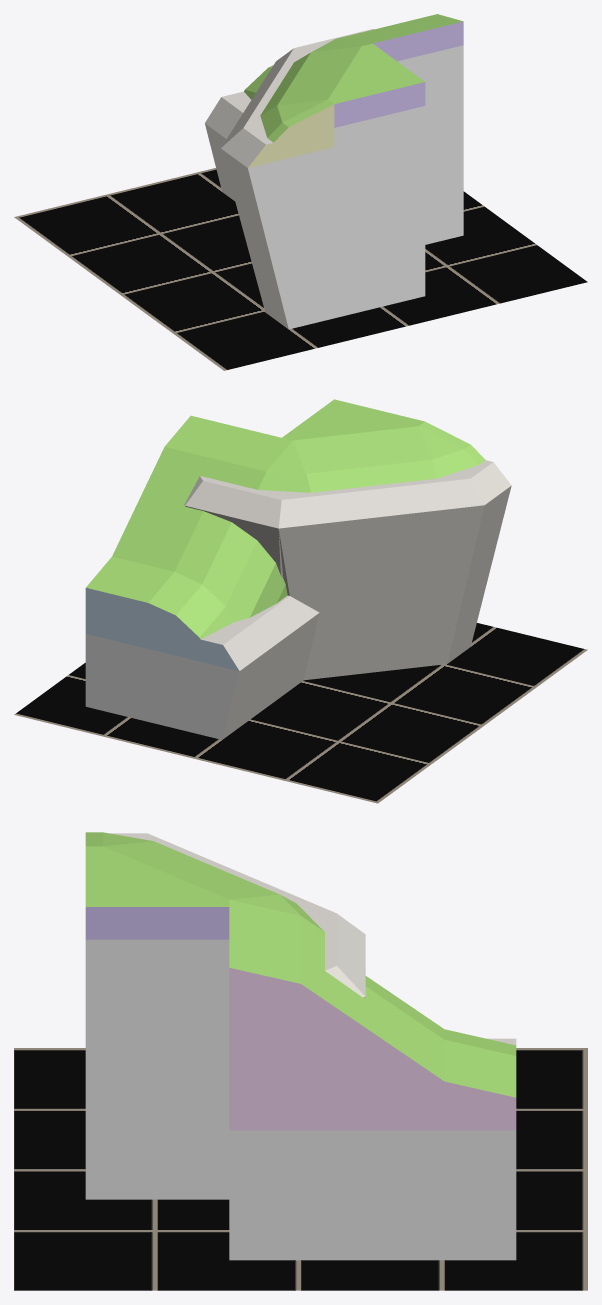
File: Waterfall_Right_Top_Terrain_3x3.glb
The picture shows the model from 3 angles, top to bottom: view 1: azimuth 30°, elevation 25°; view 2: azimuth 150°, elevation 25°; view 3: azimuth 270°, elevation 25°; orthographic projection. The views are drawn at different scales.
Parts seen in each view (by area): view 1: Waterfall_Right_Top_Terrain_3x3, Floor; view 2: Waterfall_Right_Top_Terrain_3x3, Floor; view 3: Waterfall_Right_Top_Terrain_3x3, Floor.
Boxes of the visible parts, x1,y1,x2,y2 form: Waterfall_Right_Top_Terrain_3x3: (205,14,463,329); Floor: (14,168,587,370); Waterfall_Right_Top_Terrain_3x3: (85,399,511,739); Floor: (14,623,587,803); Waterfall_Right_Top_Terrain_3x3: (85,832,516,1260); Floor: (14,1048,587,1290).
Size of the model in its own units: 400 by 225 by 400.
8 materials, 1 textured.
